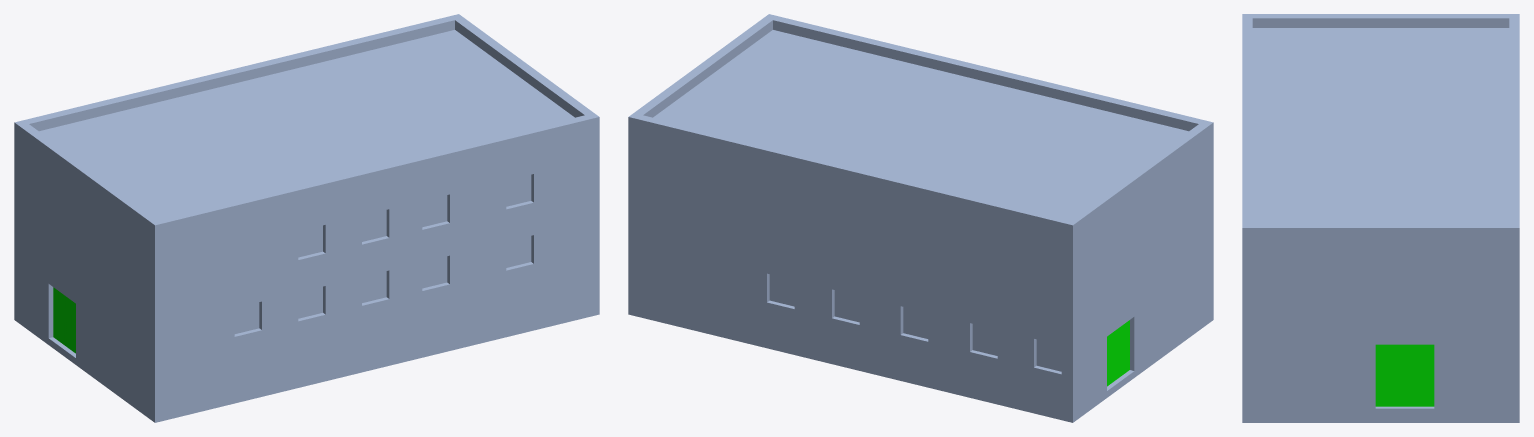
File: 35kV_Switching_Station.glb
3 views of the same model, side by side, from view 1: azimuth 30°, elevation 25°; view 2: azimuth 150°, elevation 25°; view 3: azimuth 270°, elevation 25° (orthographic).
Visible parts, largest first — view 1: Floor1; view 2: Floor1; view 3: Floor1.
Boxes of the visible parts, x1,y1,x2,y2 form: Floor1: (14, 14, 599, 422); Floor1: (628, 14, 1213, 422); Floor1: (1242, 14, 1519, 422).
Bounding box in the file's own units: 19.3 × 8.2 × 10.58.
